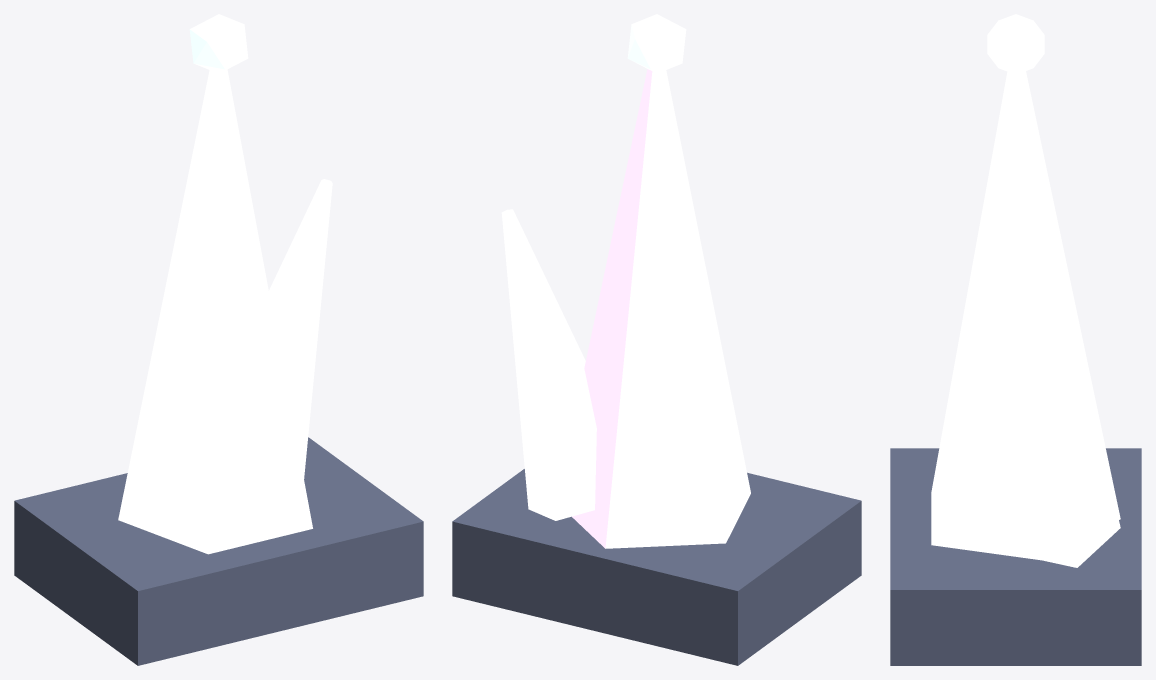
File: crystal.glb
The picture shows the model from 3 angles, left to right: view 1: azimuth 30°, elevation 25°; view 2: azimuth 150°, elevation 25°; view 3: azimuth 270°, elevation 25°; orthographic projection.
Visible parts, largest first — view 1: crystal; view 2: crystal; view 3: crystal.
Part boxes in pixels (x1=…): crystal: x1=14, y1=14, x2=423, y2=665; crystal: x1=452, y1=14, x2=861, y2=665; crystal: x1=890, y1=14, x2=1141, y2=665.
Size of the model in its own units: 1.6 by 3.06 by 1.2.
